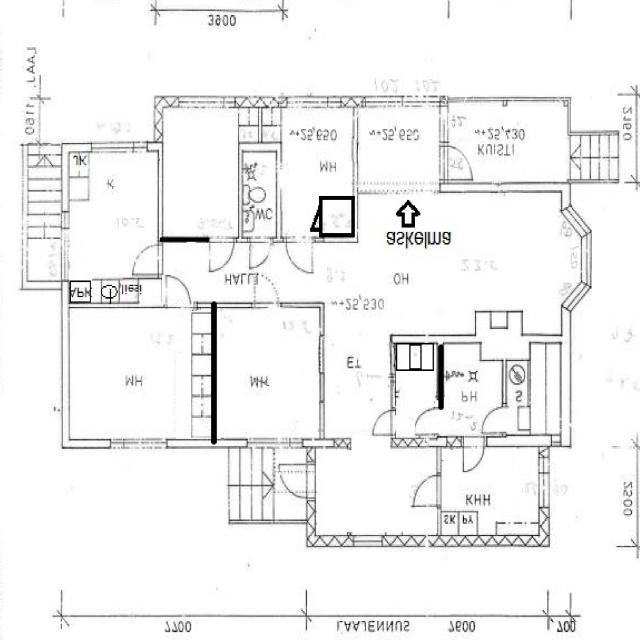door: (279, 463, 316, 497), (440, 146, 475, 178), (412, 474, 442, 506), (210, 235, 234, 272), (287, 235, 311, 272), (135, 244, 164, 274), (254, 272, 278, 308), (167, 272, 190, 308), (464, 434, 484, 471), (250, 236, 272, 268), (481, 406, 507, 432), (417, 408, 442, 432), (373, 410, 397, 433), (300, 205, 322, 228)
